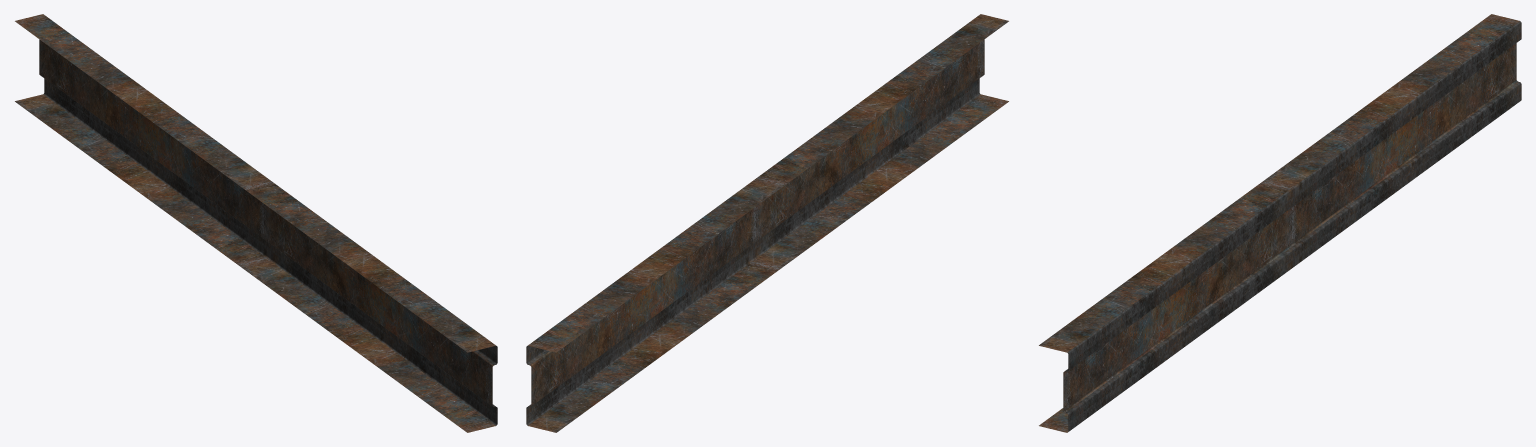
File: Beam_4m.glb
3 renders of one model, left to right at view 1: azimuth 30°, elevation 25°; view 2: azimuth 150°, elevation 25°; view 3: azimuth 330°, elevation 25°, orthographic.
Visible parts, largest first — view 1: Beam_4m; view 2: Beam_4m; view 3: Beam_4m.
Part boxes in pixels (bbox=[...]): Beam_4m: bbox=[15, 14, 497, 432]; Beam_4m: bbox=[526, 14, 1008, 432]; Beam_4m: bbox=[1039, 14, 1521, 432].
Size of the model in its own units: 0.1532 by 0.391 by 4.
Materials: 2 (2 with a texture image).
